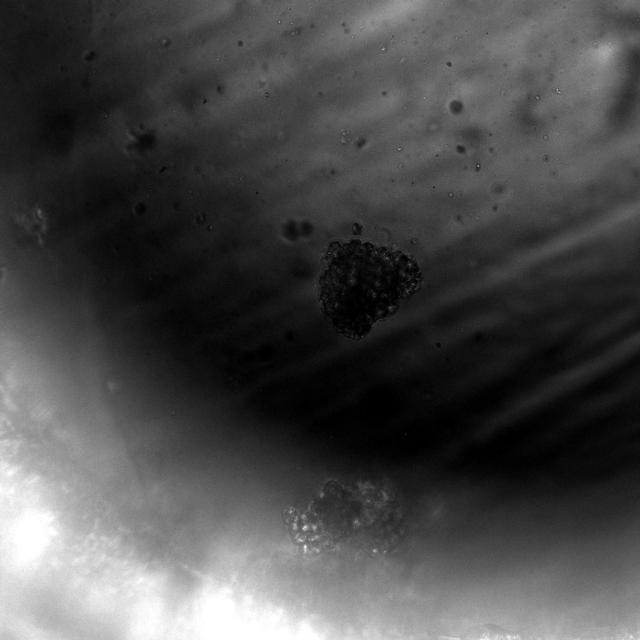organoid: (316, 222, 422, 339), (284, 480, 403, 553)
